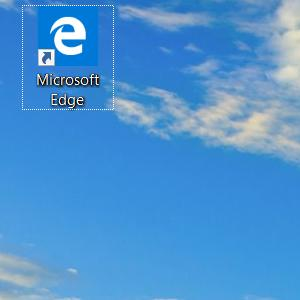edge: (38, 6, 99, 67)
